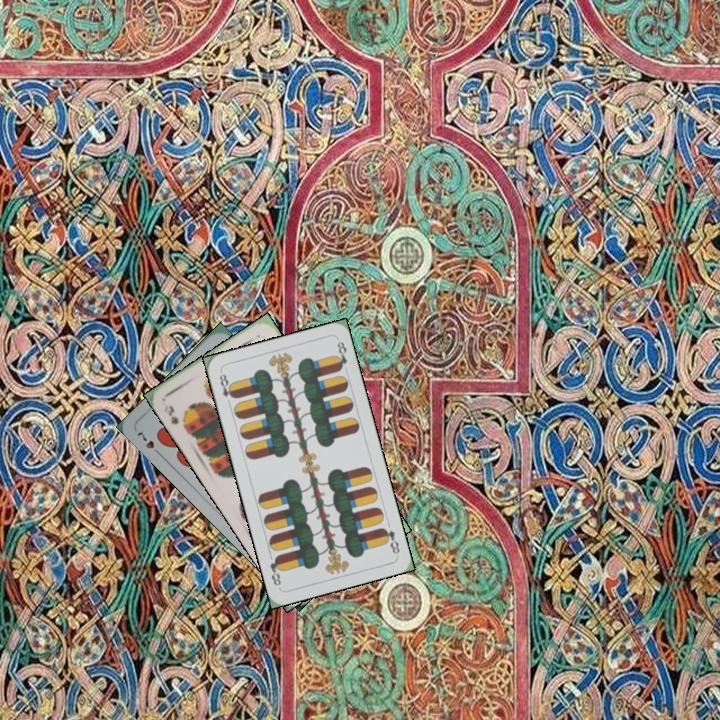E8: (378, 524, 402, 557), (215, 368, 237, 401)
H7: (133, 428, 165, 459)
S9: (164, 401, 190, 433)
